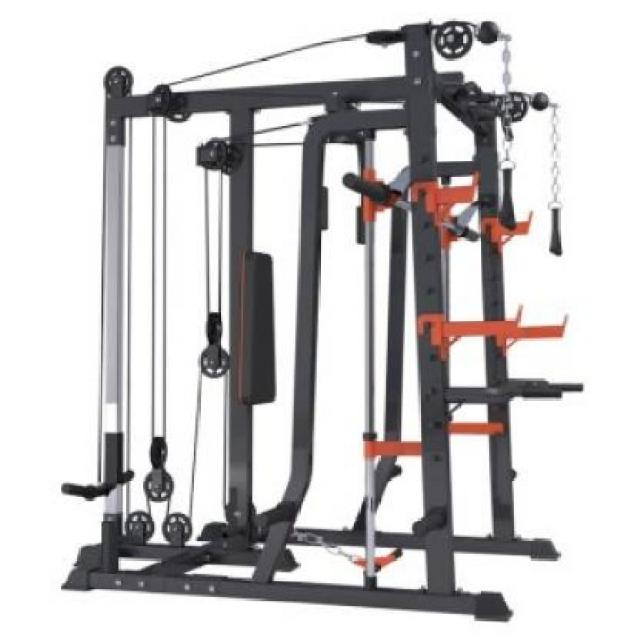smith machine: (68, 16, 564, 624)
